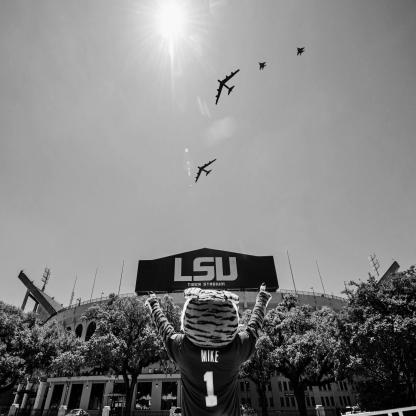B52: (216, 70, 241, 106), (196, 160, 218, 184)
F15: (297, 48, 306, 57), (260, 63, 268, 71)
